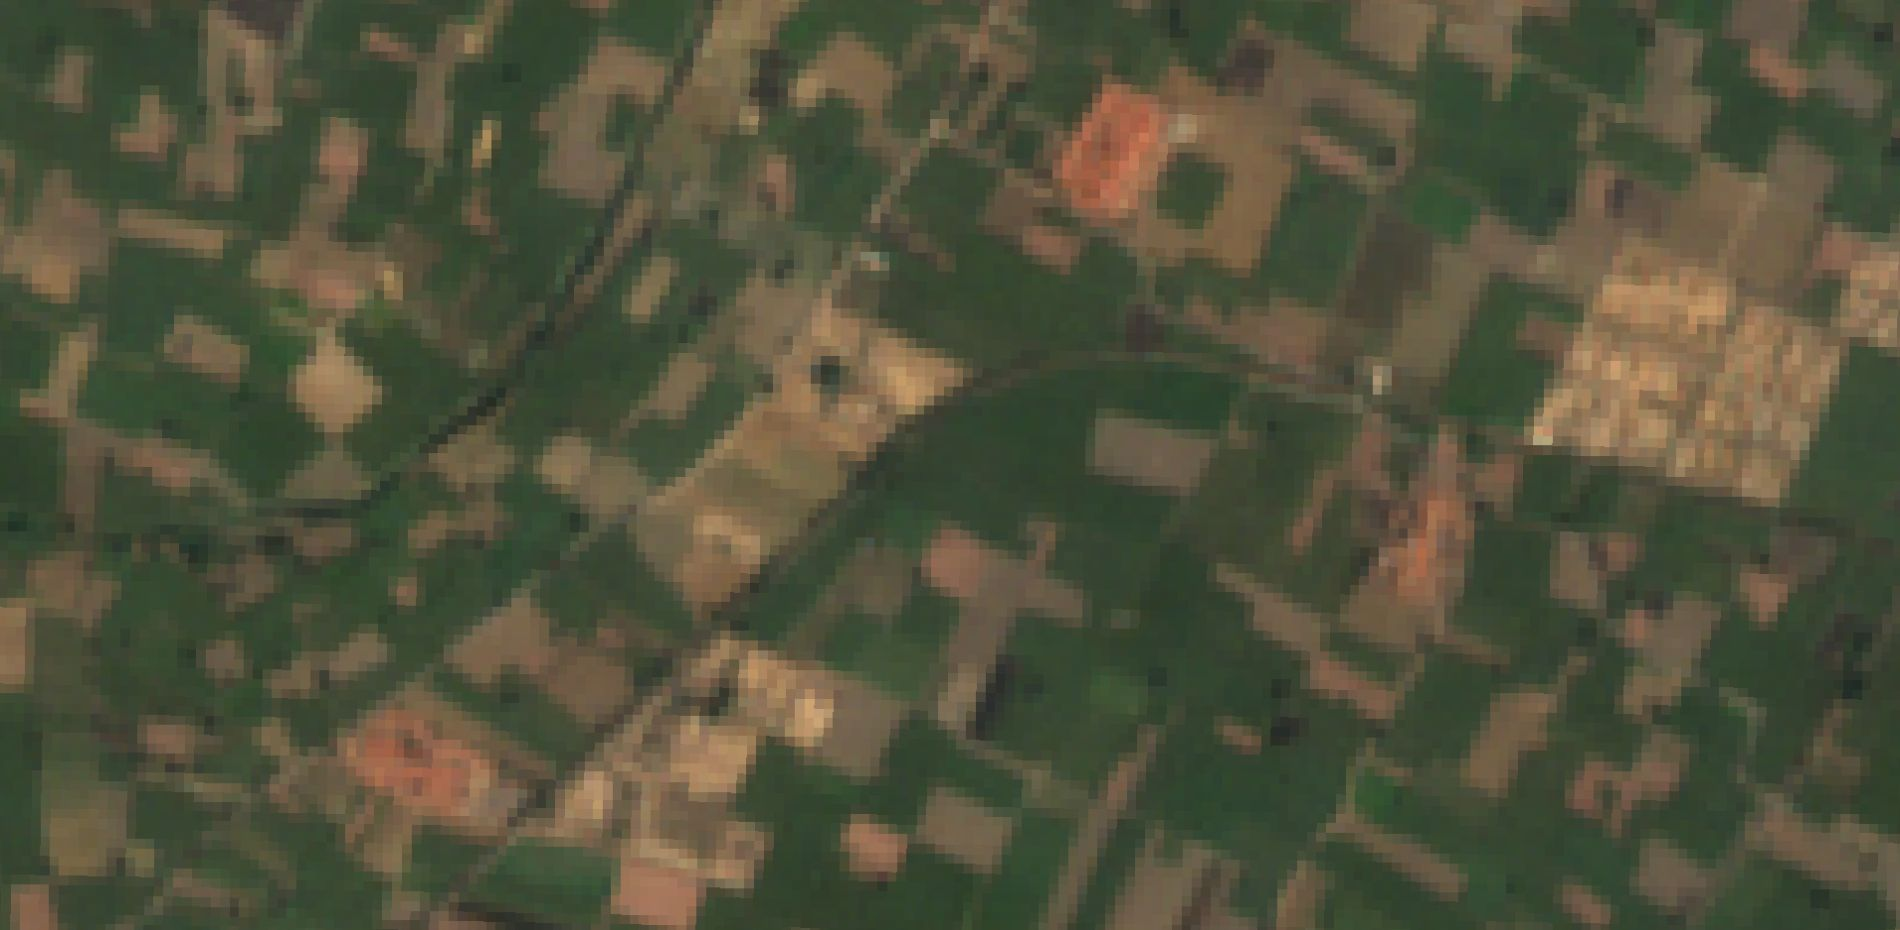brick_kiln: (336, 698, 493, 821), (1051, 72, 1168, 229)
